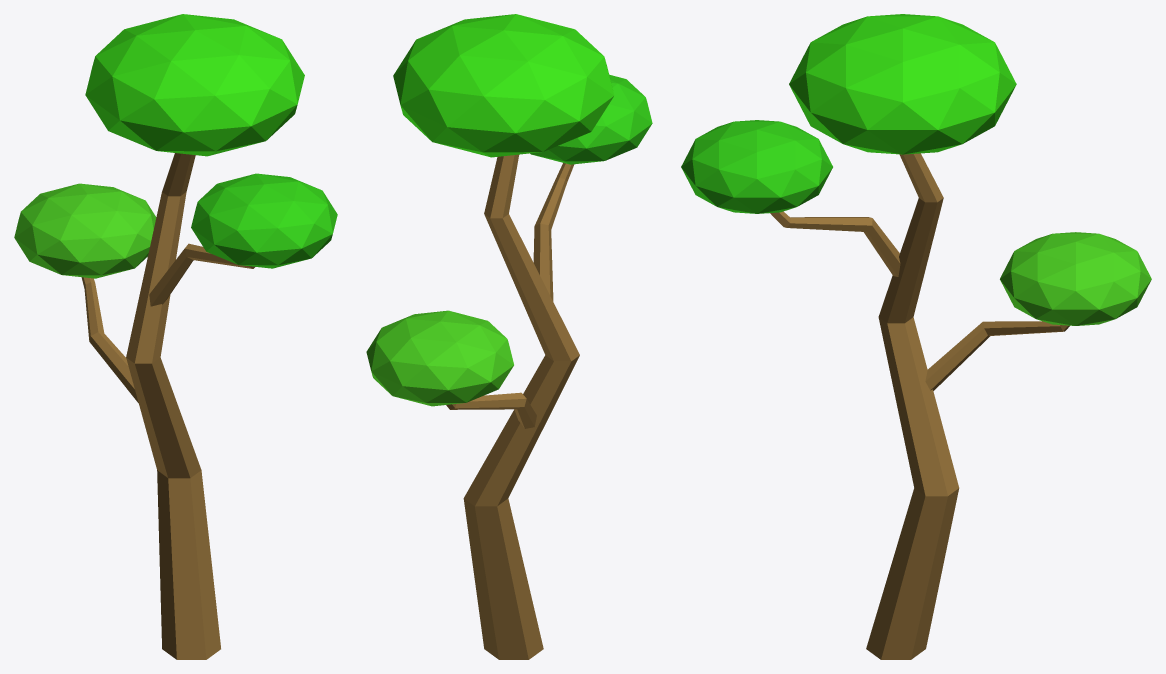
File: puu3.fbx
3 renders of one model, left to right at view 1: azimuth 30°, elevation 25°; view 2: azimuth 150°, elevation 25°; view 3: azimuth 270°, elevation 25°, orthographic.
Visible parts, largest first — view 1: Icosphere, Runko, Icosphere.001, Icosphere.002; view 2: Icosphere, Runko, Icosphere.002, Icosphere.001; view 3: Runko, Icosphere, Icosphere.002, Icosphere.001.
Part boxes in pixels (left/top/right/bottom): Icosphere: left=85, top=14, right=304, bottom=156; Runko: left=81, top=153, right=254, bottom=659; Icosphere.001: left=191, top=173, right=337, bottom=268; Icosphere.002: left=14, top=183, right=156, bottom=278; Icosphere: left=393, top=14, right=614, bottom=157; Runko: left=446, top=154, right=579, bottom=659; Icosphere.002: left=366, top=310, right=513, bottom=406; Icosphere.001: left=530, top=74, right=652, bottom=164; Runko: left=770, top=153, right=1069, bottom=659; Icosphere: left=789, top=14, right=1016, bottom=154; Icosphere.002: left=1000, top=232, right=1151, bottom=325; Icosphere.001: left=681, top=120, right=832, bottom=213.
Bounding box in the file's own units: 190 × 604 × 413.
